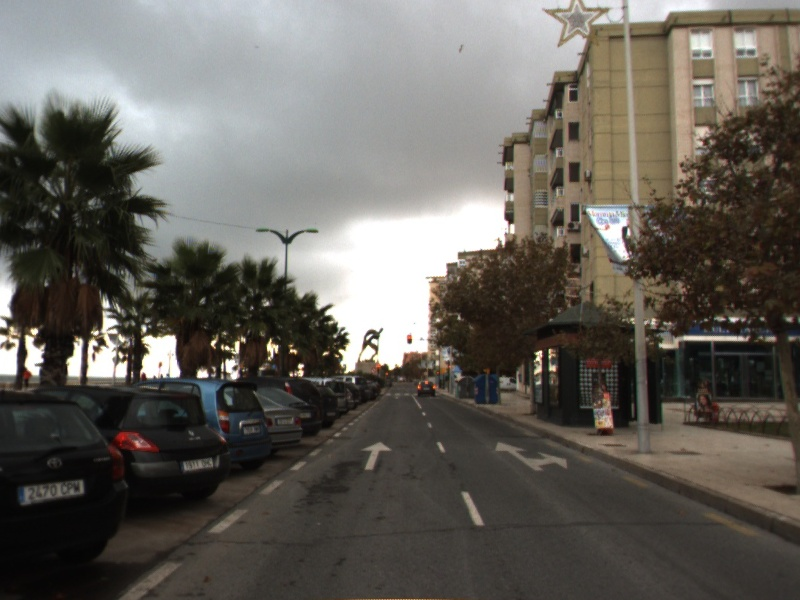STRAIGHT: (360, 439, 394, 471)
STRAIGHT_RIGHT: (494, 440, 569, 472)
